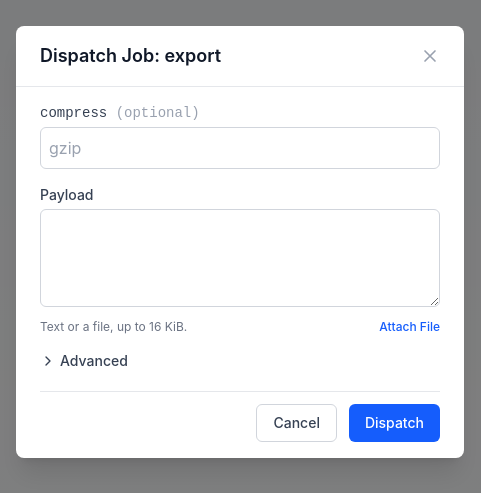
Test case: DispatchJobModal › asks for a payload when the job requires one
The width and height of the screenshot is (481, 493).
Expected: the text box labelled "Payload" is shown, [40, 209, 440, 307]
Click the button "Dispatch" at (394, 423), box [349, 404, 440, 442]
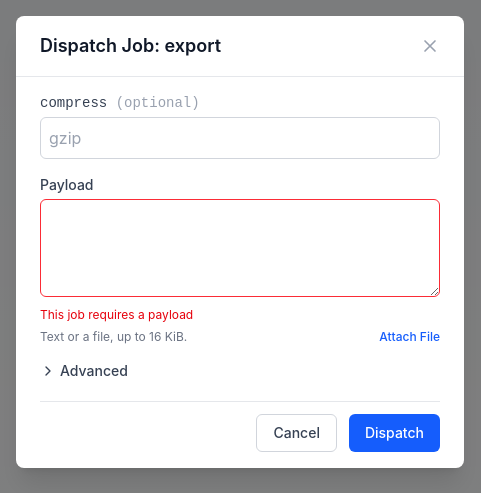
Now the text "This job requires a payload" is shown, box [40, 307, 193, 322]
